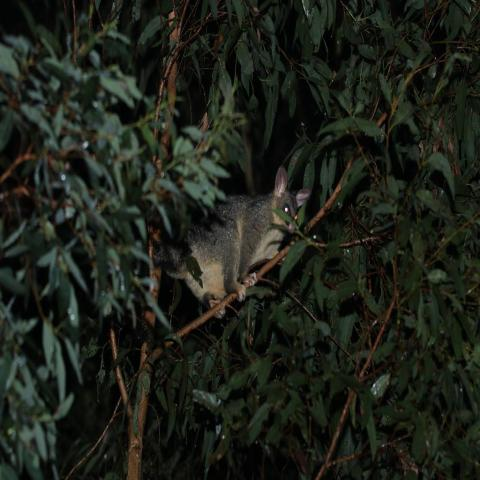small_animal: (154, 164, 312, 319)
